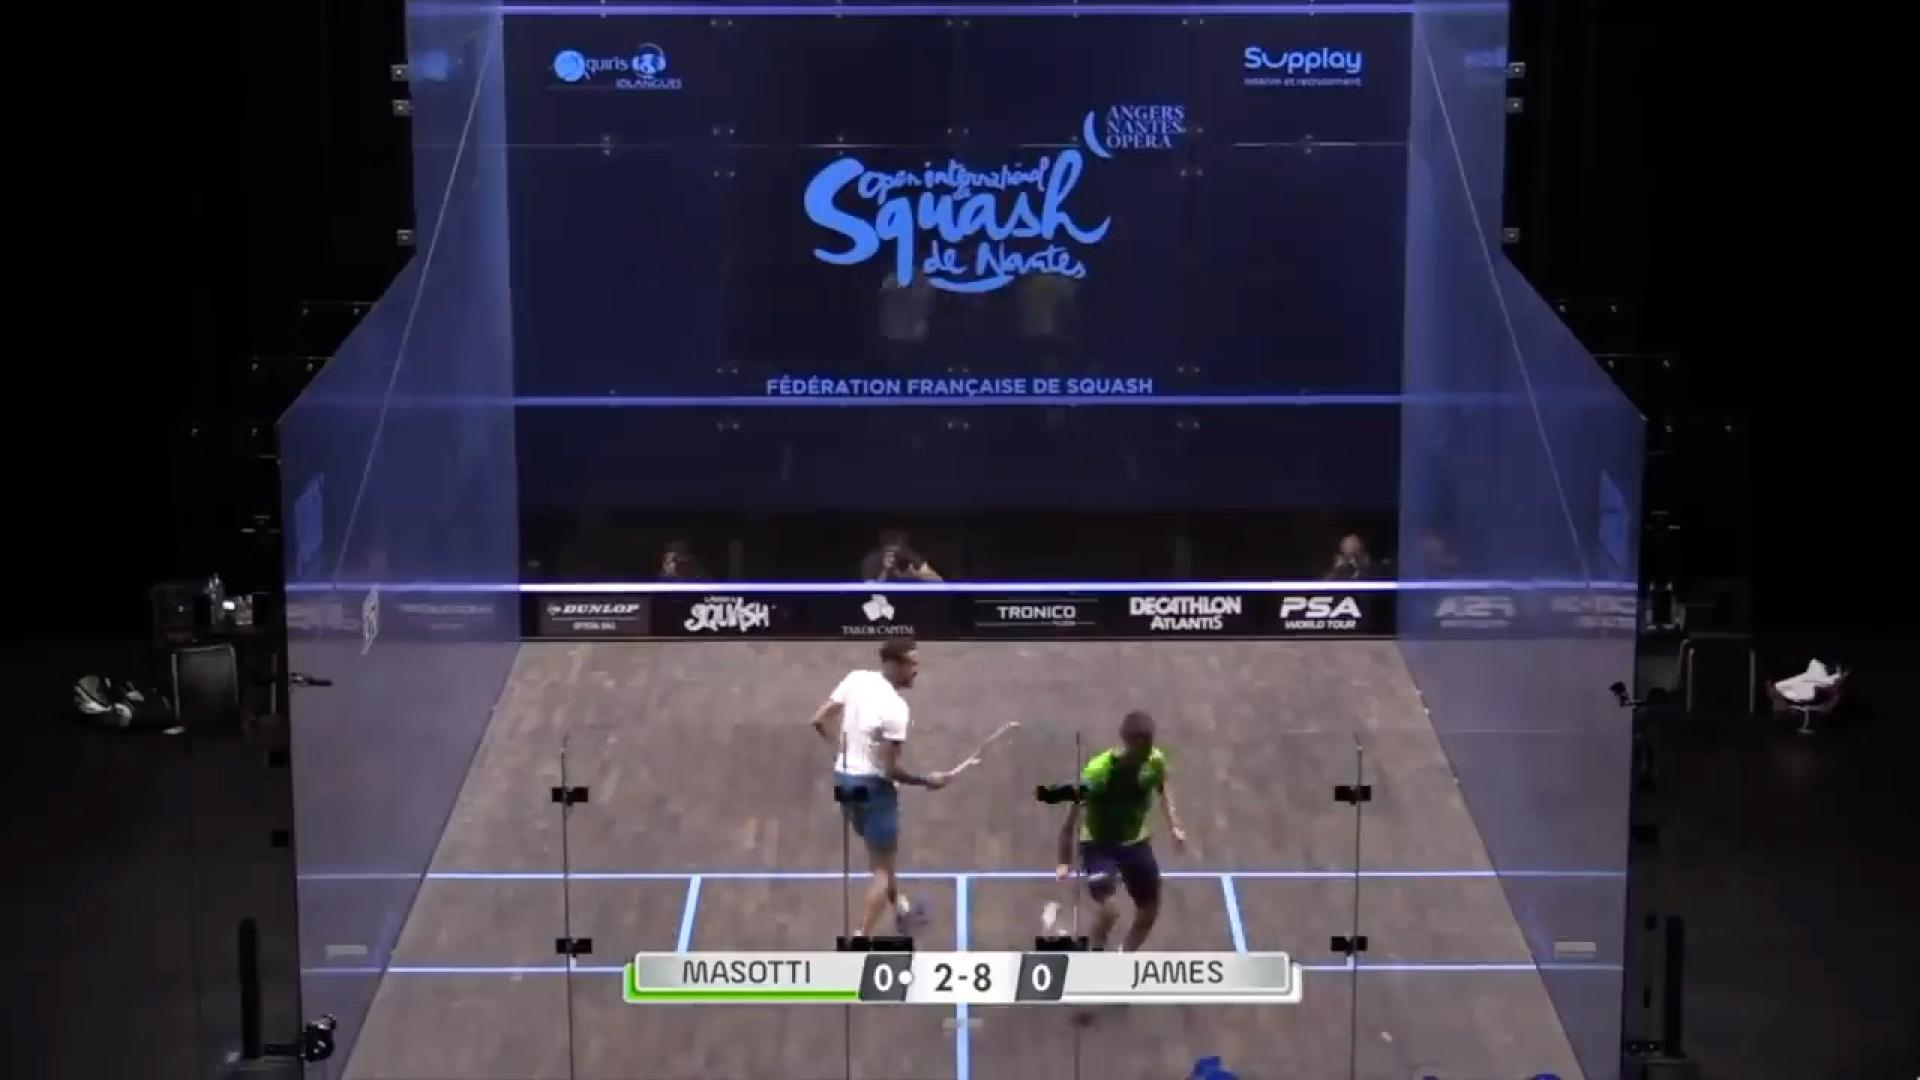Squash-Ball: (1362, 1007, 1410, 1055)
